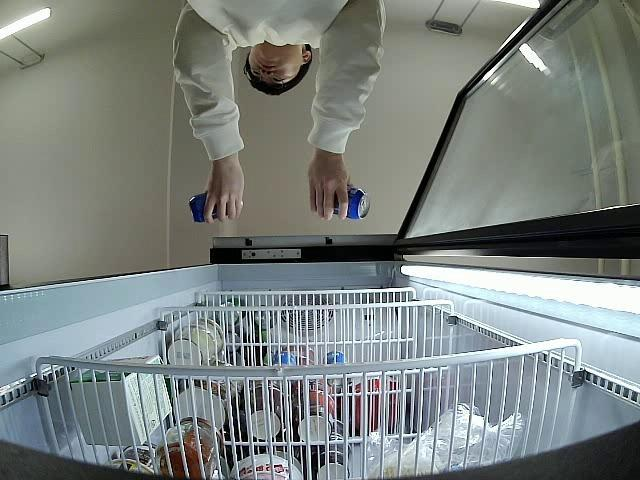13_pocariSweat: (314, 184, 371, 220), (189, 190, 244, 224)
